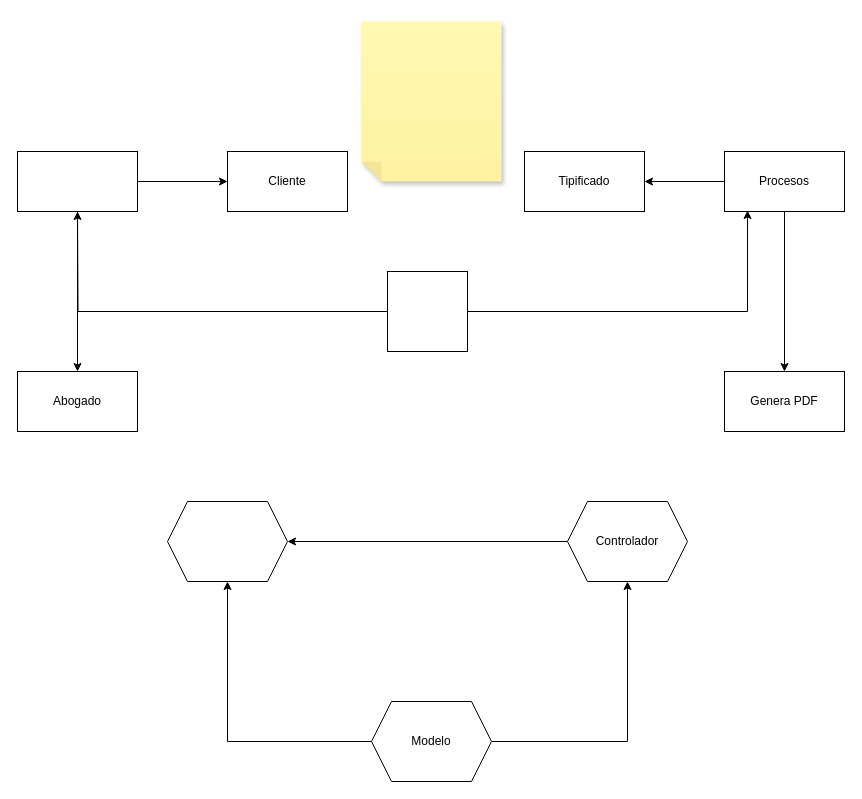
Image size: 862x799. Some labels were removed from this diagram. Here are the shapes that lost their labels. From the top down, the centre of each, then its label:
At (x=432, y=102): "Bosquejo Alto Nivel Proyecto".
At (x=77, y=181): "usuarios".
At (x=427, y=311): "Reportes".
At (x=227, y=541): "VIsta".
